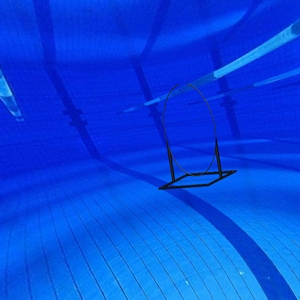circle: (158, 81, 236, 191)
